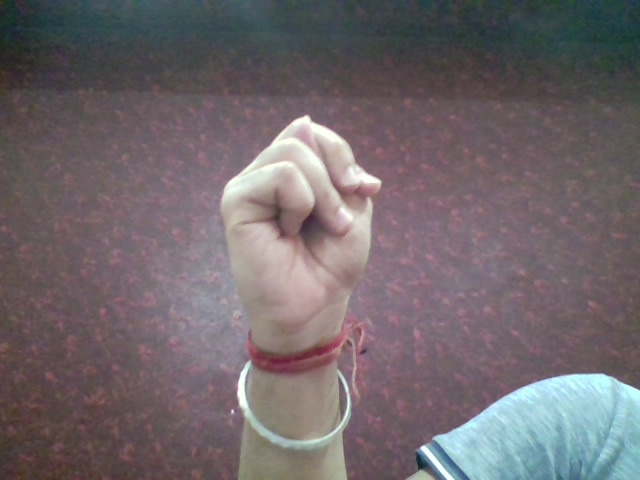n: (208, 109, 393, 344)
